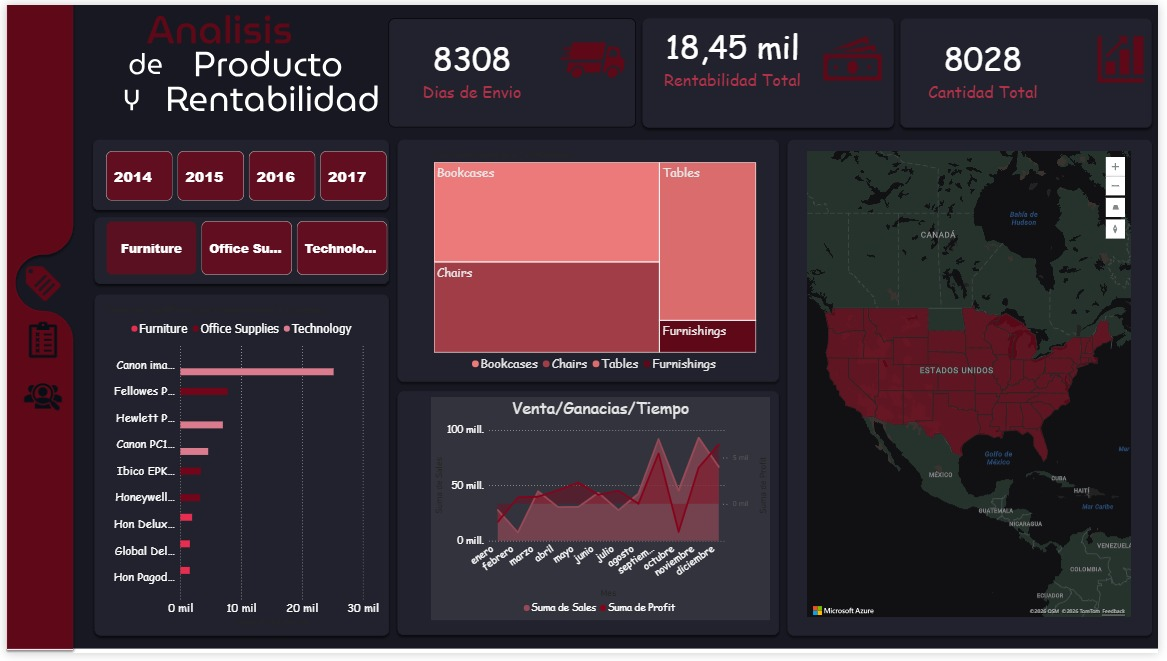

Layout of this report page (visuals, bound fields, positions):
{"tool":"powerbi","page":{"name":"Analisis de Producto y Rentabilidad","canvas":[1920,1080],"ordinal":0},"visuals":[{"type":"areaChart","title":"Venta/Ganacias/Tiempo","fields":{"Y":["Sum(vw_DataPowerBI.Sales)"],"Y2":["Sum(vw_DataPowerBI.Profit)"],"Category":["vw_DataPowerBI.OrderDate.Variación.Jerarquía de fechas.Mes"]},"box":[708.3,653.3,565,371.7],"z":0},{"type":"clusteredBarChart","fields":{"Category":["vw_RankingProductosPorCategoria.ProductName"],"Series":["vw_RankingProductosPorCategoria.Category"],"Y":["Sum(vw_RankingProductosPorCategoria.TotalProfit)"]},"box":[161.7,496.7,465,545],"z":1000},{"type":"treemap","fields":{"Group":["vw_DataPowerBI.SubCategory"],"Values":["Sum(vw_DataPowerBI.Sales)"]},"box":[708.3,238.3,546.7,381.7],"z":2000},{"type":"azureMap","fields":{"Category":["vw_DataPowerBI.State","vw_DataPowerBI.City"]},"box":[1330,238.3,550,786.7],"z":3000},{"type":"card","fields":{"Values":["Sum(vw_DataPowerBI.ShippingDays)"]},"box":[670,40,213.3,130],"z":4000},{"type":"card","fields":{"Values":["Sum(vw_DataPowerBI.Profit)"]},"box":[1076.7,30,268.3,110],"z":5000},{"type":"card","fields":{"Values":["Sum(vw_DataPowerBI.Quantity)"]},"box":[1513.3,30,230,150],"z":6000},{"type":"advancedSlicerVisual","fields":{"Values":["vw_DataPowerBI.OrderDate.Variación.Jerarquía de fechas.Año"]},"box":[161.7,238.3,480,93.3],"z":7000},{"type":"advancedSlicerVisual","fields":{"Values":["vw_DataPowerBI.Category"]},"box":[161.7,355,480,100],"z":8000},{"type":"actionButton","box":[8.3,411.7,105,103.3],"z":9000},{"type":"actionButton","box":[21.7,515,80,85],"z":10000},{"type":"actionButton","box":[21.7,610,80,85],"z":11000}]}

Visuals, with their boxes in screenshot pixels (x1, y1, x2, y2), scaled from the page's 1920x1080 canvas onto the 1167x661 screenshot:
"Venta/Ganacias/Tiempo" areaChart: <bbox>431, 400, 774, 627</bbox>
clusteredBarChart - vw_RankingProductosPorCategoria.ProductName x vw_RankingProductosPorCategoria.Category: <bbox>98, 304, 381, 638</bbox>
treemap - vw_DataPowerBI.SubCategory x Sum(vw_DataPowerBI.Sales): <bbox>431, 146, 763, 379</bbox>
azureMap - vw_DataPowerBI.State x vw_DataPowerBI.City: <bbox>808, 146, 1143, 627</bbox>
card - Sum(vw_DataPowerBI.ShippingDays): <bbox>407, 24, 537, 104</bbox>
card - Sum(vw_DataPowerBI.Profit): <bbox>654, 18, 818, 86</bbox>
card - Sum(vw_DataPowerBI.Quantity): <bbox>920, 18, 1060, 110</bbox>
advancedSlicerVisual - vw_DataPowerBI.OrderDate.Variación.Jerarquía de fechas.Año: <bbox>98, 146, 390, 203</bbox>
advancedSlicerVisual - vw_DataPowerBI.Category: <bbox>98, 217, 390, 278</bbox>
actionButton: <bbox>5, 252, 69, 315</bbox>
actionButton: <bbox>13, 315, 62, 367</bbox>
actionButton: <bbox>13, 373, 62, 425</bbox>
